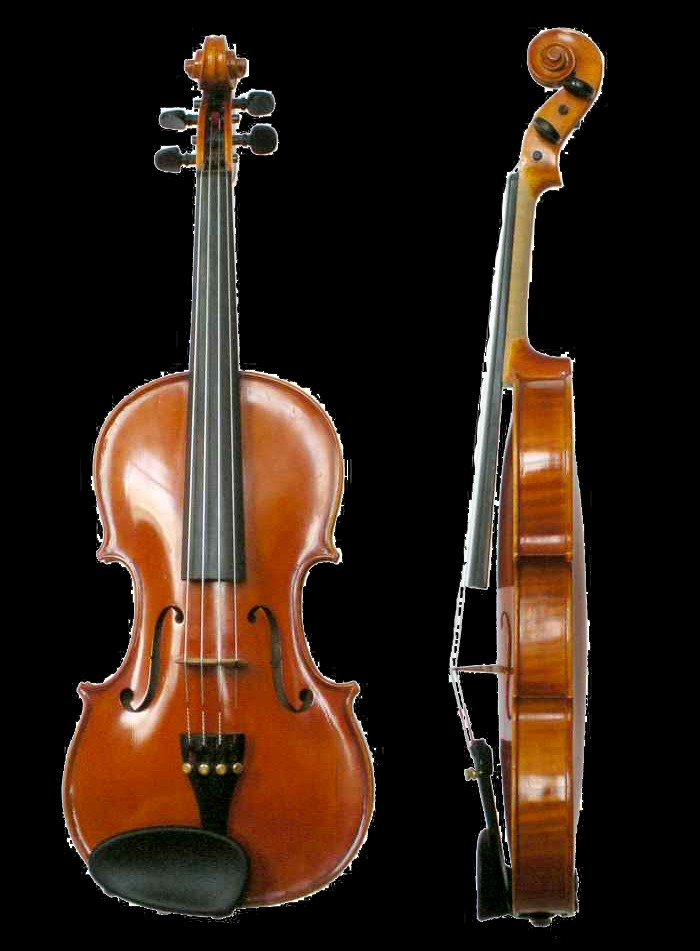Violin: (35, 8, 431, 934), (358, 5, 687, 925)
